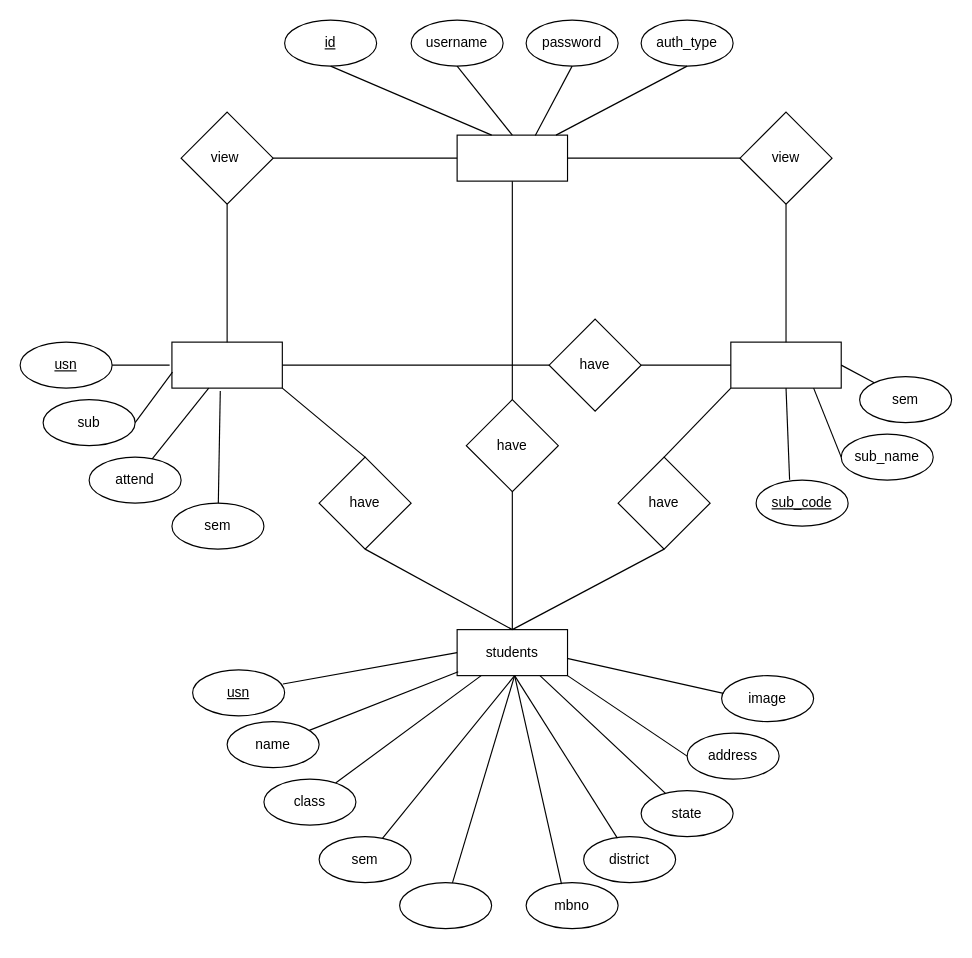
Image size: 972x958. Some labels were removed from this diagram. Each missing label, with the box of its shape:
attendance: (171, 341, 282, 388)
dob: (398, 881, 492, 929)
subjects: (730, 341, 841, 388)
users: (456, 134, 568, 181)
